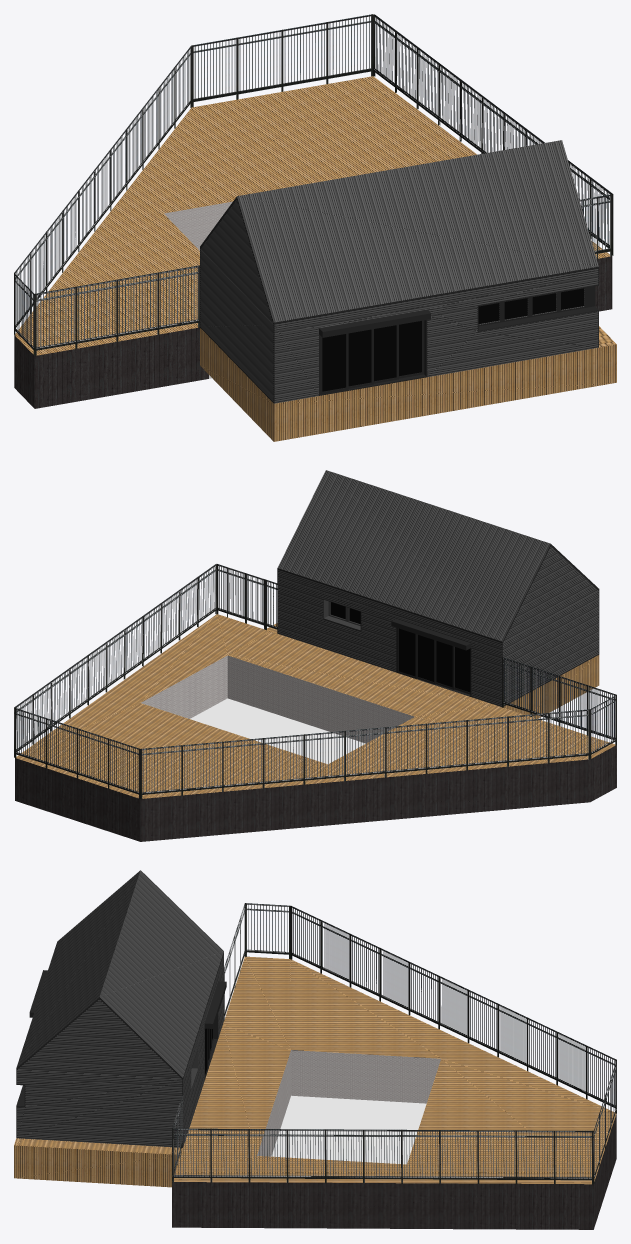
File: Pool.FBX
The picture shows the model from 3 angles, top to bottom: view 1: azimuth 30°, elevation 25°; view 2: azimuth 150°, elevation 25°; view 3: azimuth 270°, elevation 25°; orthographic projection. The views are drawn at different scales.
Parts seen in each view (by area): view 1: Porte_pa01, Group5, Group6, Group1; view 2: Group5, Porte_pa01, Group6, Group1; view 3: Group5, Porte_pa01, Group6, Group1.
Boxes of the visible parts, bbox=[...] form: Porte_pa01: bbox=[200, 140, 598, 403]; Group5: bbox=[14, 76, 612, 408]; Group6: bbox=[14, 14, 613, 355]; Group1: bbox=[200, 326, 616, 441]; Group5: bbox=[15, 614, 616, 841]; Porte_pa01: bbox=[277, 470, 599, 706]; Group6: bbox=[14, 564, 616, 798]; Group1: bbox=[267, 623, 599, 718]; Group5: bbox=[172, 956, 616, 1229]; Porte_pa01: bbox=[16, 870, 226, 1147]; Group6: bbox=[172, 903, 616, 1184]; Group1: bbox=[14, 1138, 182, 1187].
Bounding box in the file's own units: 1955 × 767 × 2184.
13 materials, 7 textured.
